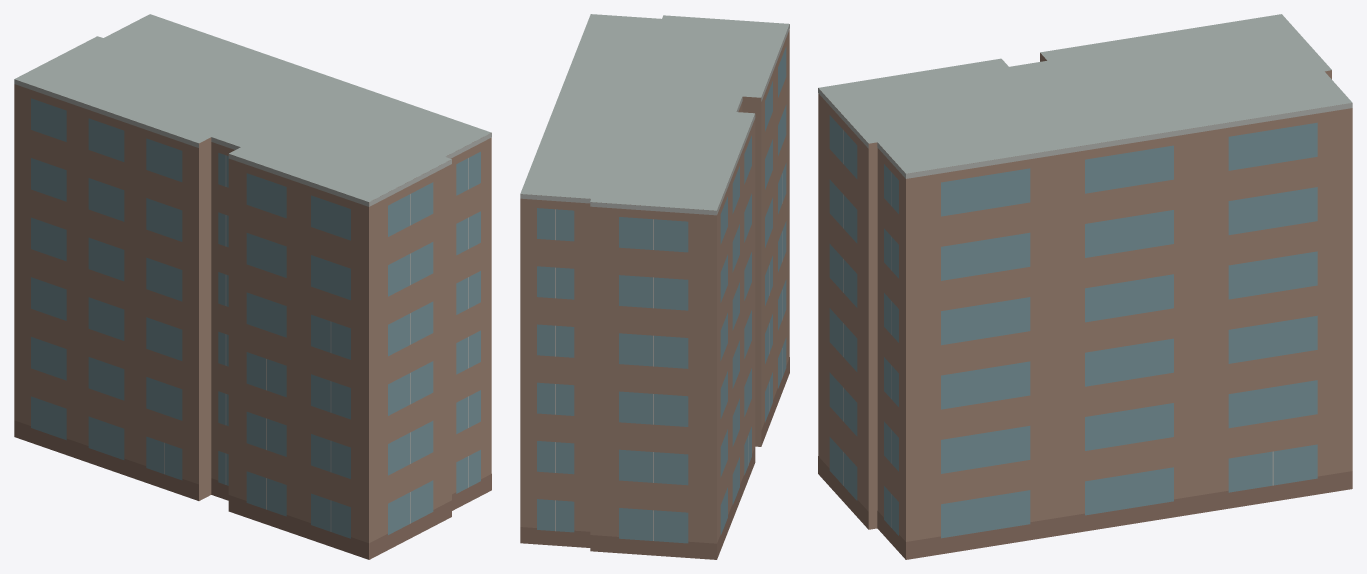
The model's file is survey-upis-32864370.glb.
The picture shows the model from 3 angles, left to right: view 1: azimuth 30°, elevation 25°; view 2: azimuth 150°, elevation 25°; view 3: azimuth 270°, elevation 25°; orthographic projection. The views are drawn at different scales.
Parts seen in each view (by area): view 1: survey-upis-32864370.tmp; view 2: survey-upis-32864370.tmp; view 3: survey-upis-32864370.tmp.
Part boxes in pixels (x1,y1,x2,y2): survey-upis-32864370.tmp: (14,14,491,559); survey-upis-32864370.tmp: (520,14,789,559); survey-upis-32864370.tmp: (818,14,1352,559).
Bounding box in the file's own units: 16.16 × 18.2 × 22.84.
